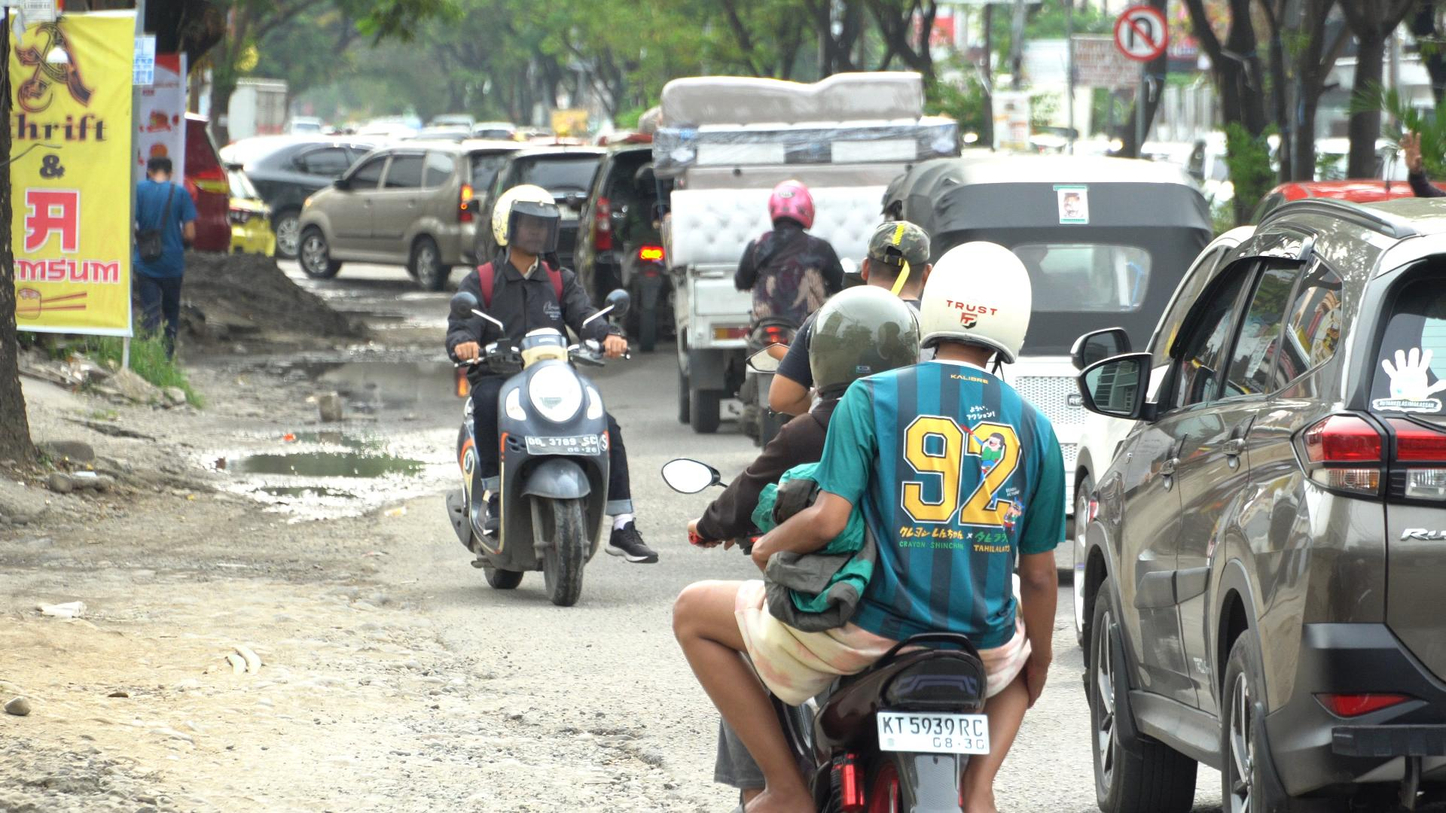number-plate: (525, 433, 602, 458)
